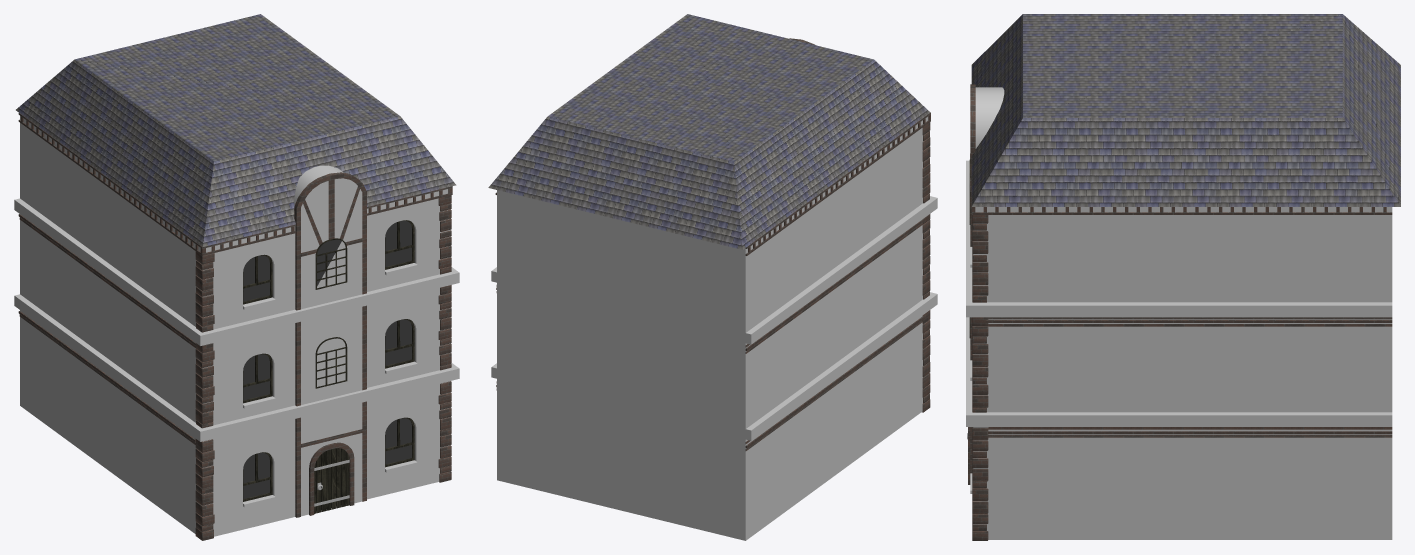
The model's file is Bank.fbx.
The picture shows the model from 3 angles, left to right: view 1: azimuth 30°, elevation 25°; view 2: azimuth 150°, elevation 25°; view 3: azimuth 270°, elevation 25°; orthographic projection. The views are drawn at different scales.
Visible parts, largest first — view 1: House 2, roof, Windows, Cube.003, House 2.004, Cube.005, Cube.004; view 2: House 2, roof, Cube.005, Cube.003; view 3: House 2, roof, Cube.005, Cube.003, House 2.004.
Part boxes in pixels (left/top/right/bottom): House 2: left=14, top=116, right=459, bottom=536; roof: left=16, top=14, right=456, bottom=246; Windows: left=243, top=220, right=414, bottom=501; Cube.003: left=195, top=195, right=451, bottom=540; House 2.004: left=294, top=172, right=366, bottom=517; Cube.005: left=18, top=113, right=452, bottom=444; Cube.004: left=314, top=448, right=349, bottom=513; House 2: left=491, top=116, right=937, bottom=540; roof: left=488, top=14, right=930, bottom=249; Cube.005: left=495, top=112, right=930, bottom=450; Cube.003: left=922, top=122, right=930, bottom=412; House 2: left=966, top=87, right=1392, bottom=539; roof: left=971, top=14, right=1400, bottom=206; Cube.005: left=972, top=207, right=1392, bottom=437; Cube.003: left=972, top=215, right=988, bottom=540; House 2.004: left=968, top=84, right=975, bottom=484.
Size of the model in its own units: 681 by 892 by 864.
